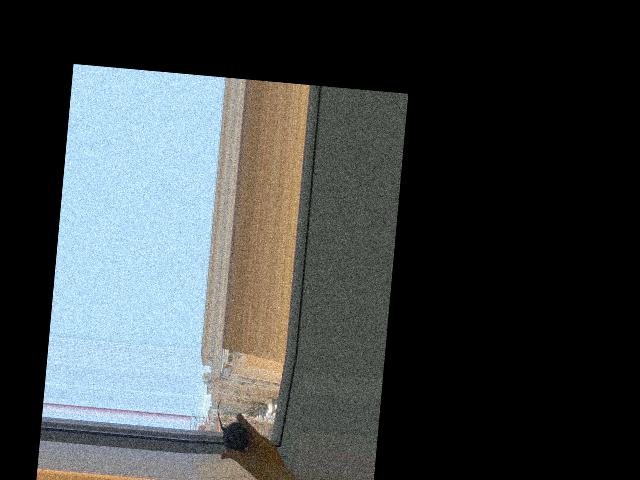beet: (213, 397, 252, 451)
